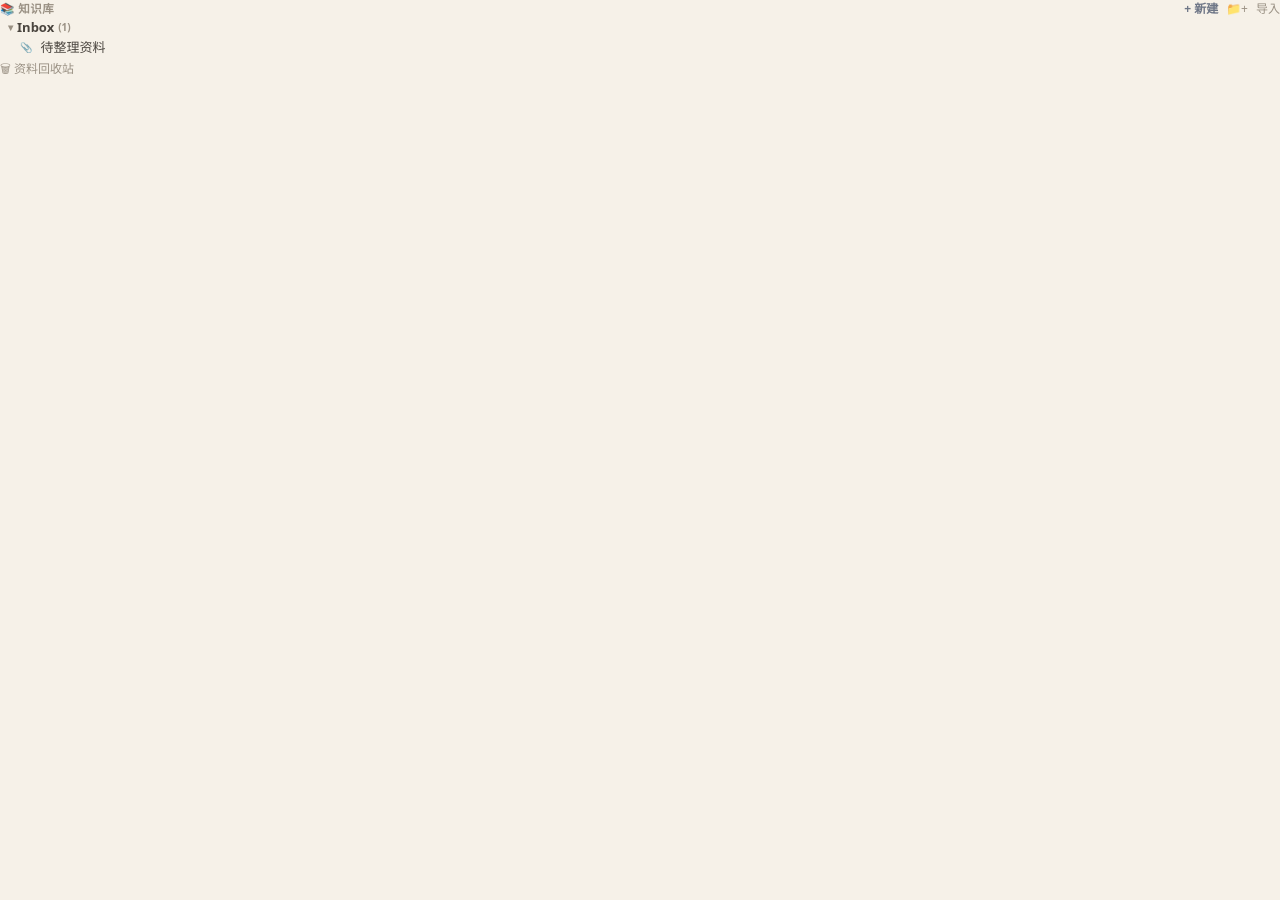
Test: KbTree › 目录右键：重命名目录/新建资料（预设目录）
Right-click the element showing "▾ Inbox (1)" at (39, 27), box [8, 18, 71, 36]
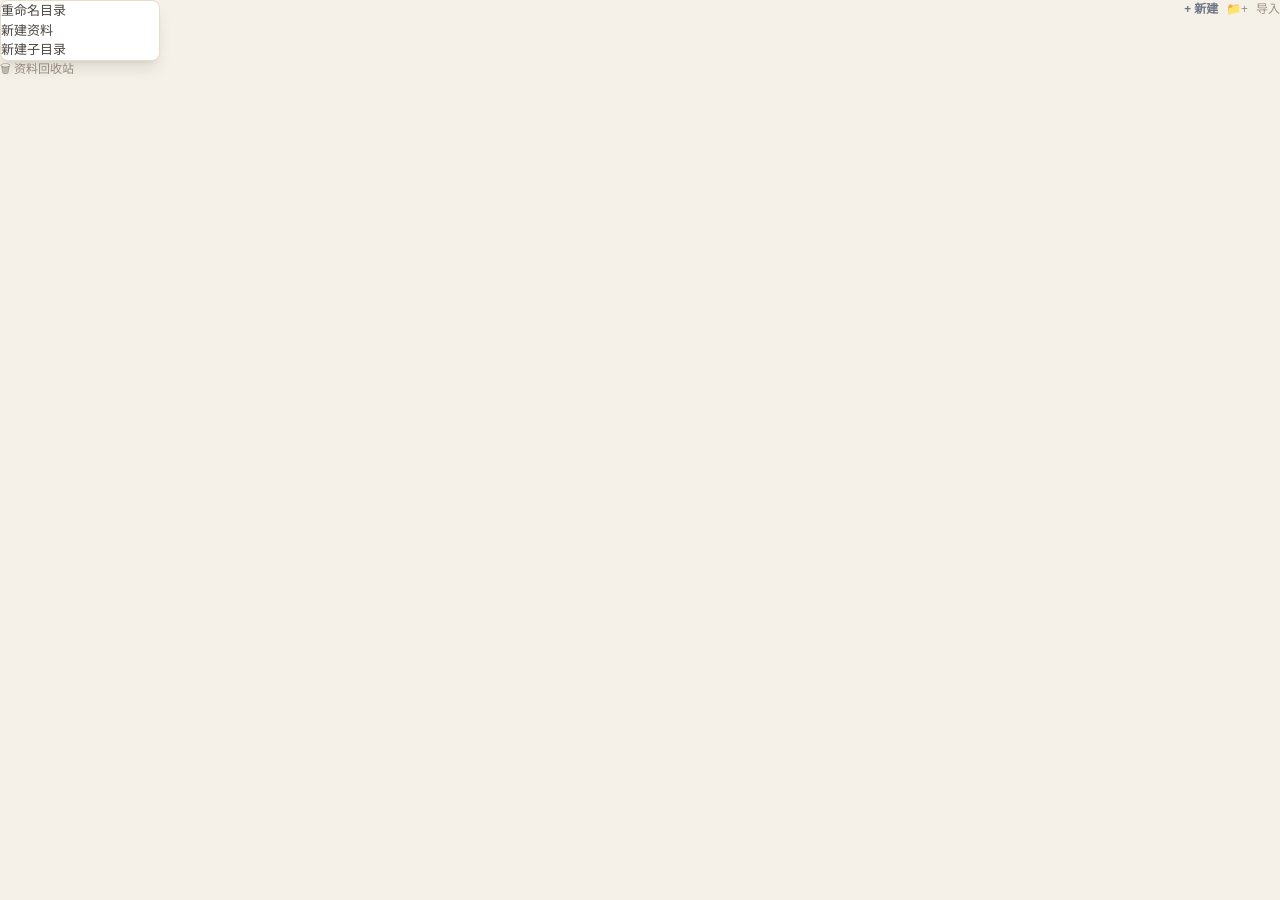
Now the button with test id "kb-menu-rename-dir" is shown, box [1, 1, 159, 20]
Now the button with test id "kb-menu-new-material" is shown
Click the button with test id "kb-menu-new-material" at (80, 30), box [1, 20, 159, 40]
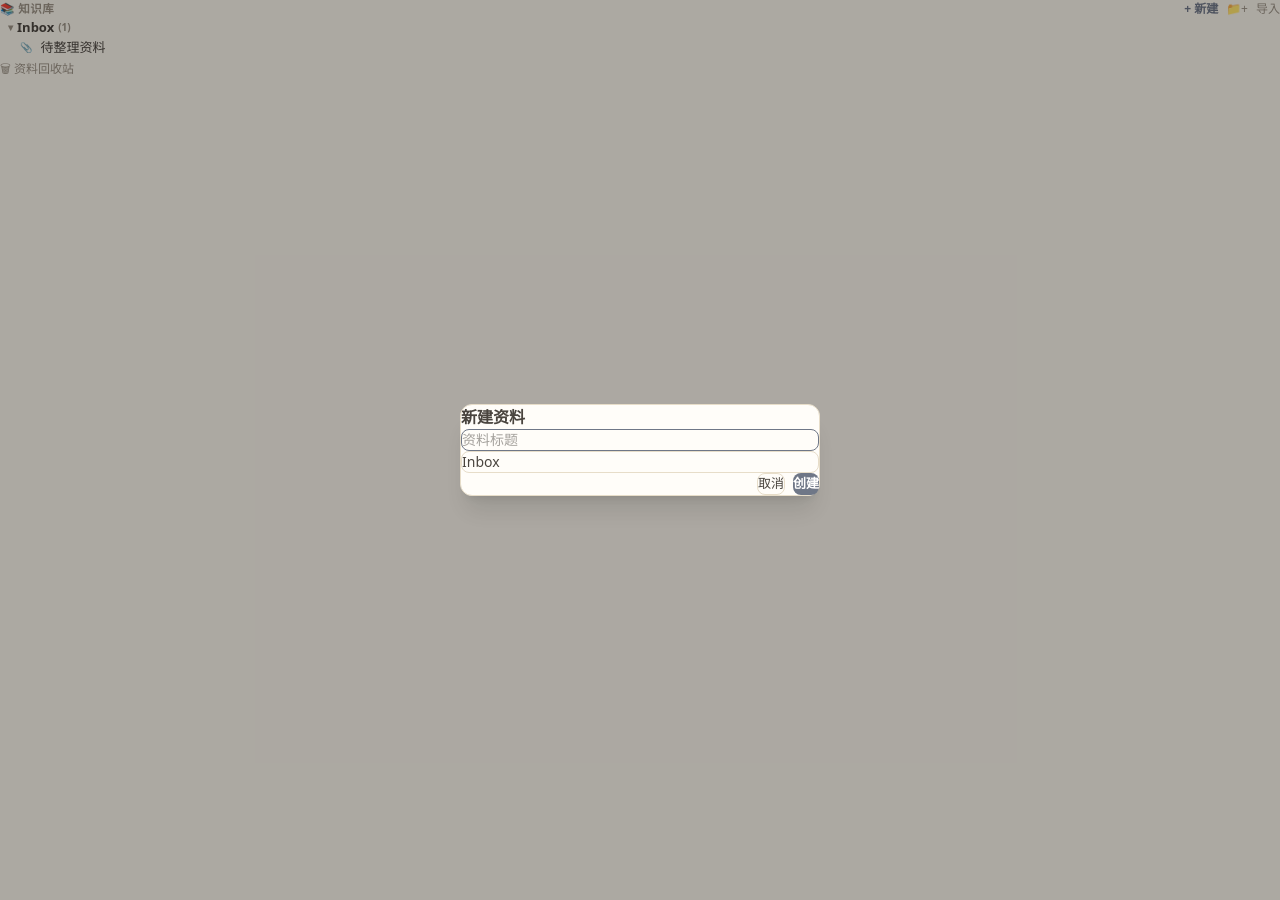
Now the element with test id "kb-new-dialog" is shown, box [460, 404, 820, 496]
Now the field with test id "kb-new-dir" holds "Inbox", box [461, 451, 819, 473]
